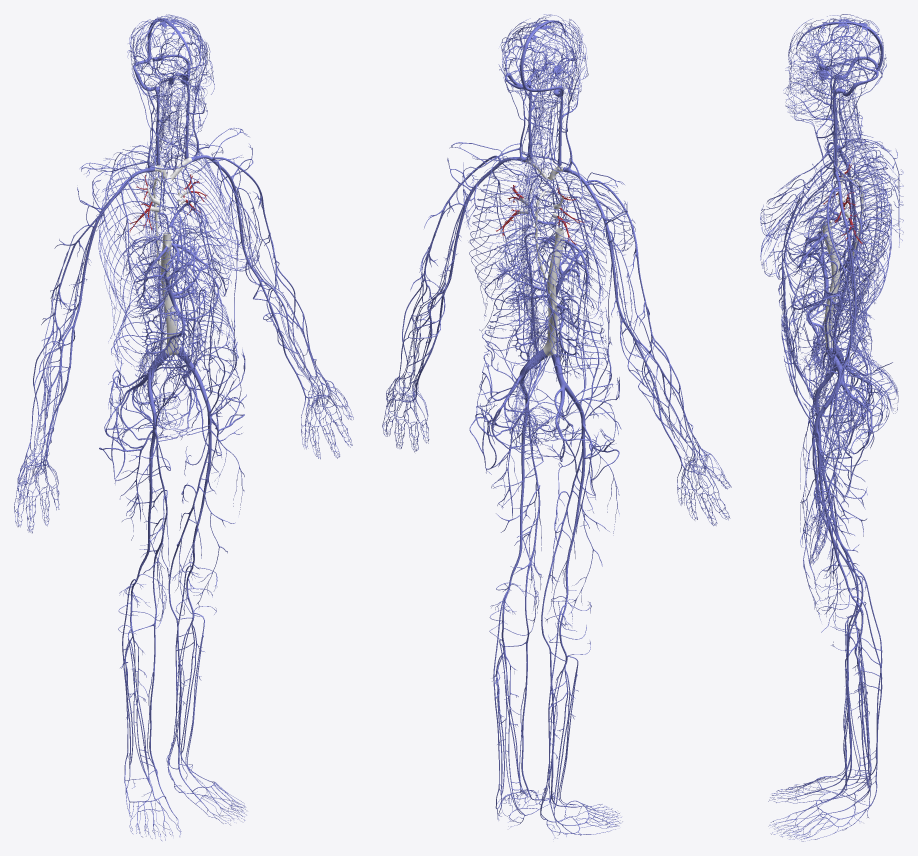
File: female-2024-veins-low.glb
3 renders of one model, left to right at view 1: azimuth 30°, elevation 25°; view 2: azimuth 150°, elevation 25°; view 3: azimuth 270°, elevation 25°, orthographic. The views are drawn at different scales.
Parts seen in each view (by area): view 1: Great Saphenous Vein (×2), Basilic Vein (×2), Cephalic Vein (×2), Inferior Vena Cava; view 2: Great Saphenous Vein (×2), Basilic Vein (×2), Cephalic Vein (×2), Inferior Vena Cava; view 3: Great Saphenous Vein (×2), Basilic Vein (×2), Cephalic Vein, Inferior Vena Cava, Medial Mammary Branches of Internal Thoracic Vein (×2), Femoral Vein (×2), Posterior Tibial Veins (×2), Small Saphenous Vein (×2), Middle Meningeal Veins, Left Gastroomental Vein, Superior Cerebral Veins, Superior Sagittal Sinus (+16 smaller).
Part boxes in pixels (x1,y1,x2,y2): Great Saphenous Vein (×2): (122,418,244,775); Basilic Vein (×2): (34,190,307,456); Cephalic Vein (×2): (30,157,316,453); Inferior Vena Cava: (160,232,179,355); Great Saphenous Vein (×2): (492,412,619,799); Basilic Vein (×2): (402,201,683,460); Cephalic Vein (×2): (398,155,693,461); Inferior Vena Cava: (543,228,565,356); Great Saphenous Vein (×2): (800,404,867,786); Basilic Vein (×2): (828,181,874,486); Cephalic Vein: (826,187,871,489); Inferior Vena Cava: (822,220,840,349); Medial Mammary Branches of Internal Thoracic Vein (×2): (760,179,802,279); Femoral Vein (×2): (813,393,839,560); Posterior Tibial Veins (×2): (852,617,871,804); Small Saphenous Vein (×2): (853,569,882,808); Middle Meningeal Veins: (796,26,877,88); Left Gastroomental Vein: (789,271,840,363); Superior Cerebral Veins: (797,24,880,77); Superior Sagittal Sinus: (796,21,883,66).
Bounding box in the file's own units: 29.17 × 65.48 × 10.71.
